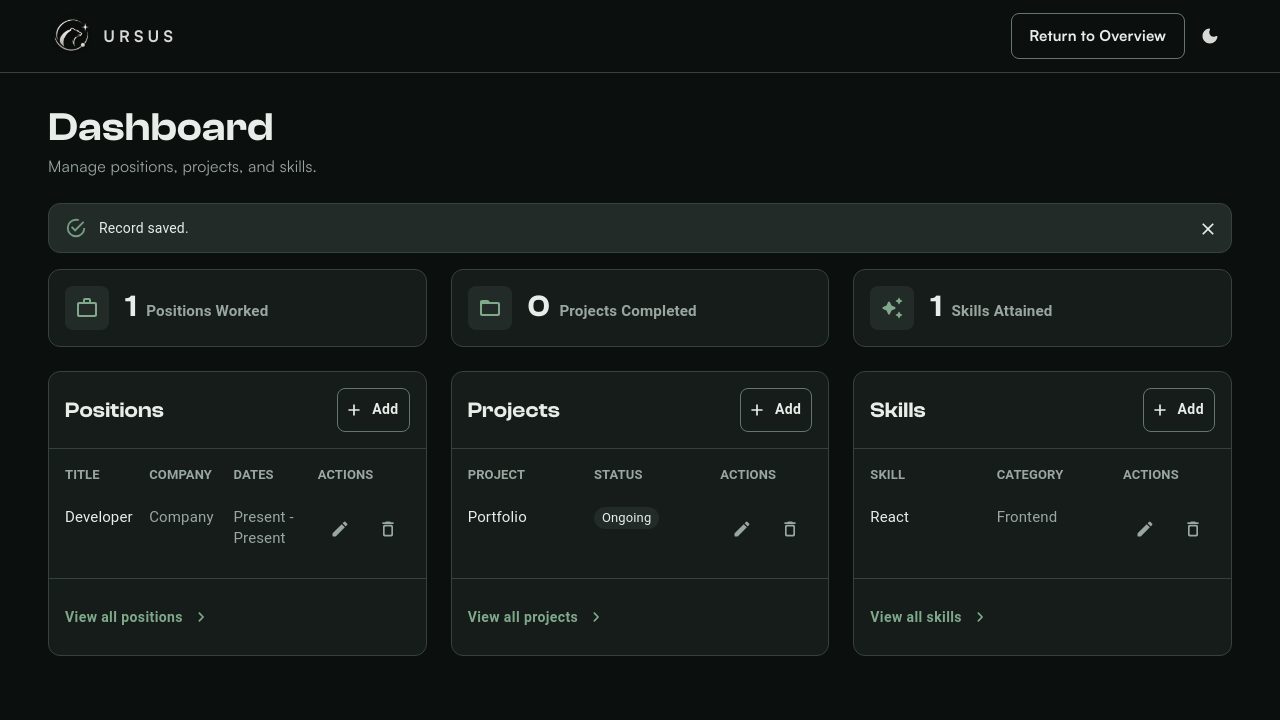
Test: Skills create, edit, delete and view-all controls remain functional
Earlier steps of the test are not shown.
Expected: the text "Record saved." is shown, [99,220,189,236]
Click the button named "Edit React". click: {"x": 1145, "y": 529}
box: [1123,507,1167,551]
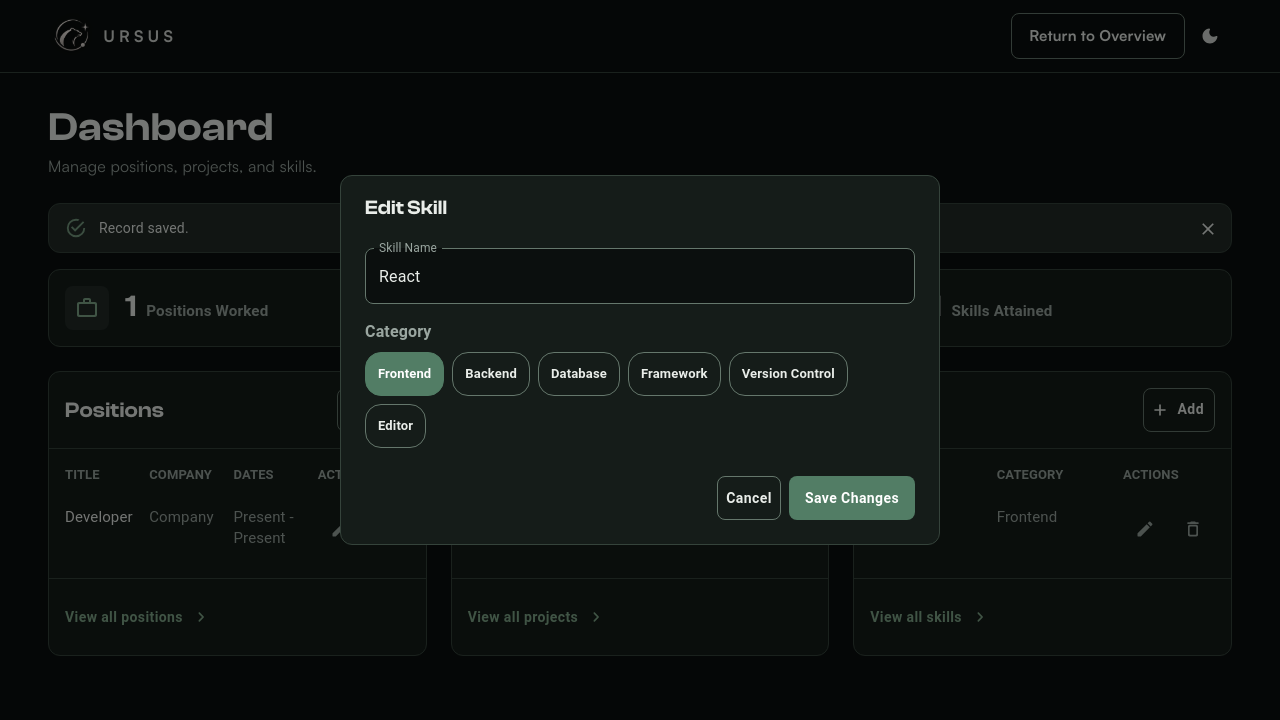
Replace the text in the field labelled "Skill Name" with "Updated name". click: {"x": 640, "y": 276}
box: [365,248,915,304]
Click the button "Save Changes". click: {"x": 852, "y": 498}
box: [789,476,915,520]
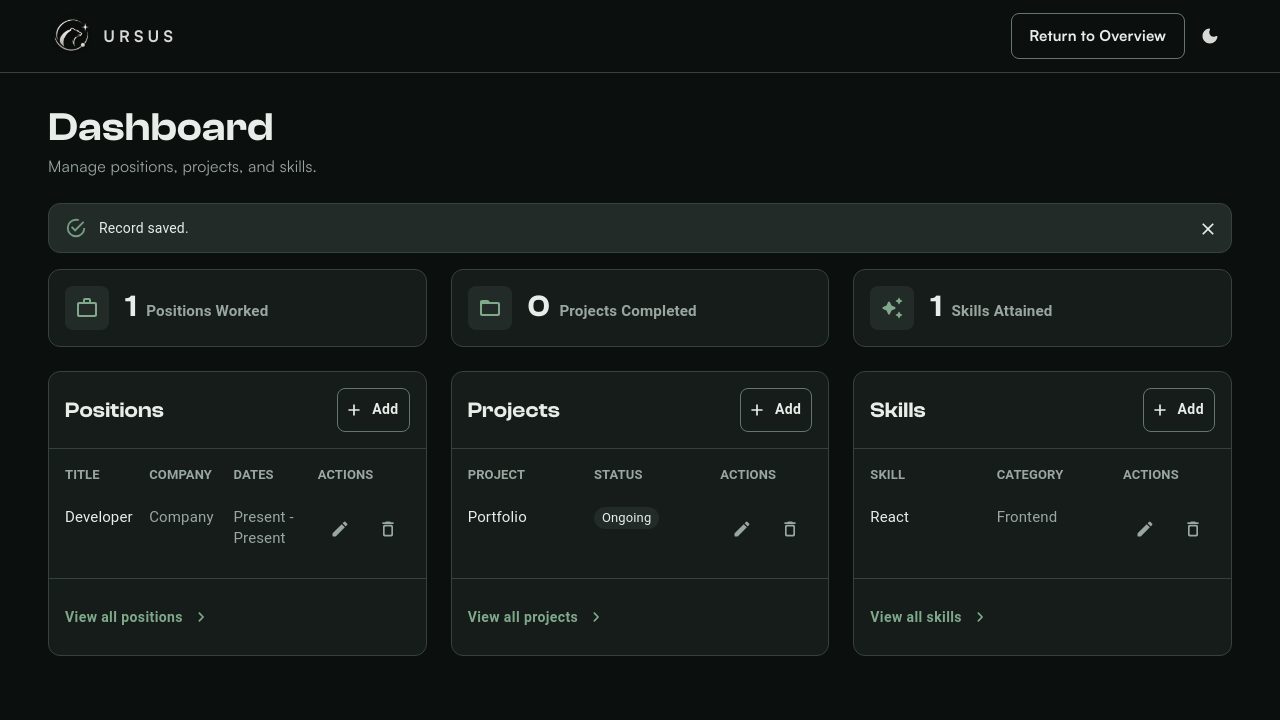
Result: the text "Record saved." is shown at [99,220,189,236]
Result: the dialog is gone
Click the button "View all skills". click: {"x": 928, "y": 618}
box: [870,596,986,640]
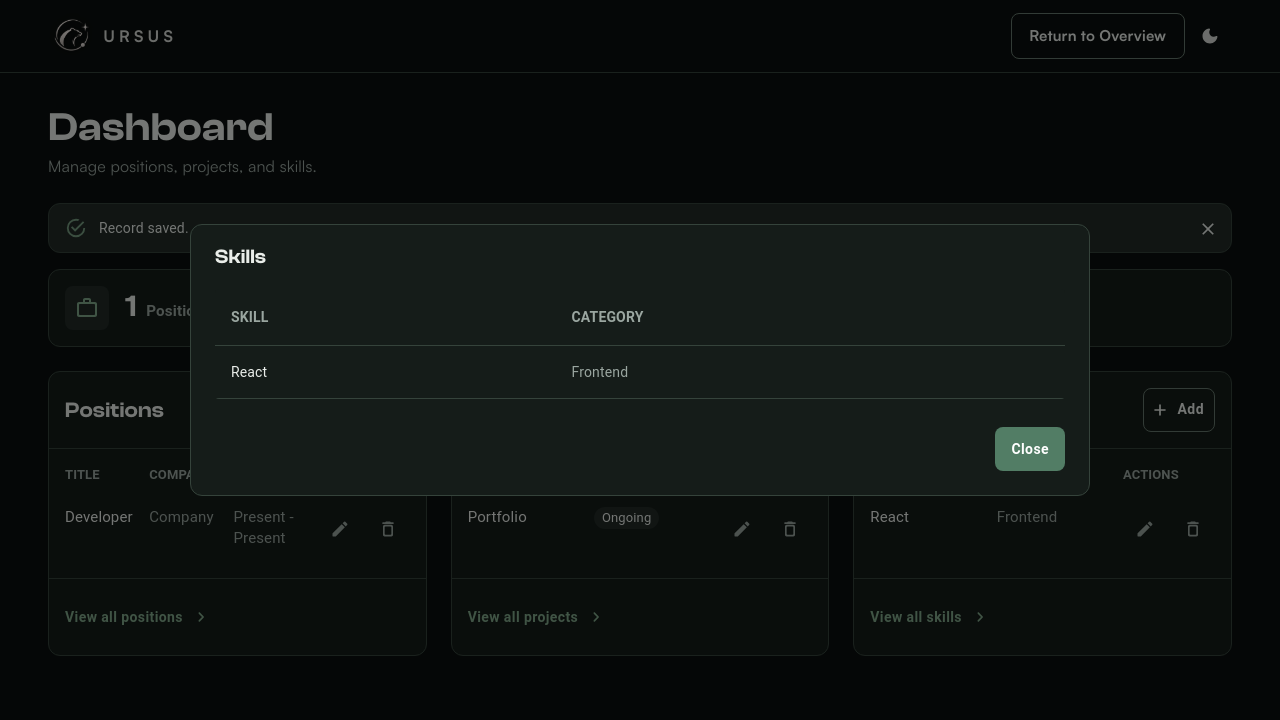
Result: the table is shown at [215,289,1065,399]
Click the button "Close". click: {"x": 1030, "y": 449}
box: [995,427,1065,471]
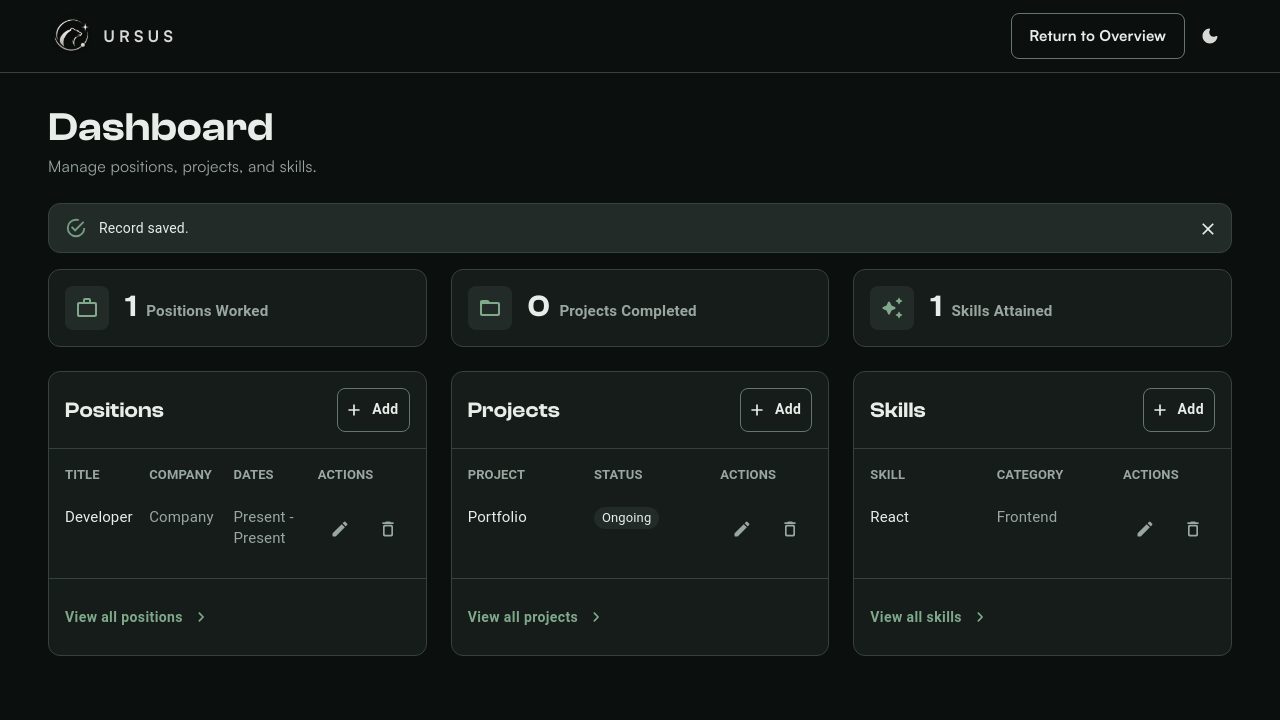
Result: the dialog is gone
Click the button named "Delete React". click: {"x": 1193, "y": 529}
box: [1171,507,1215,551]
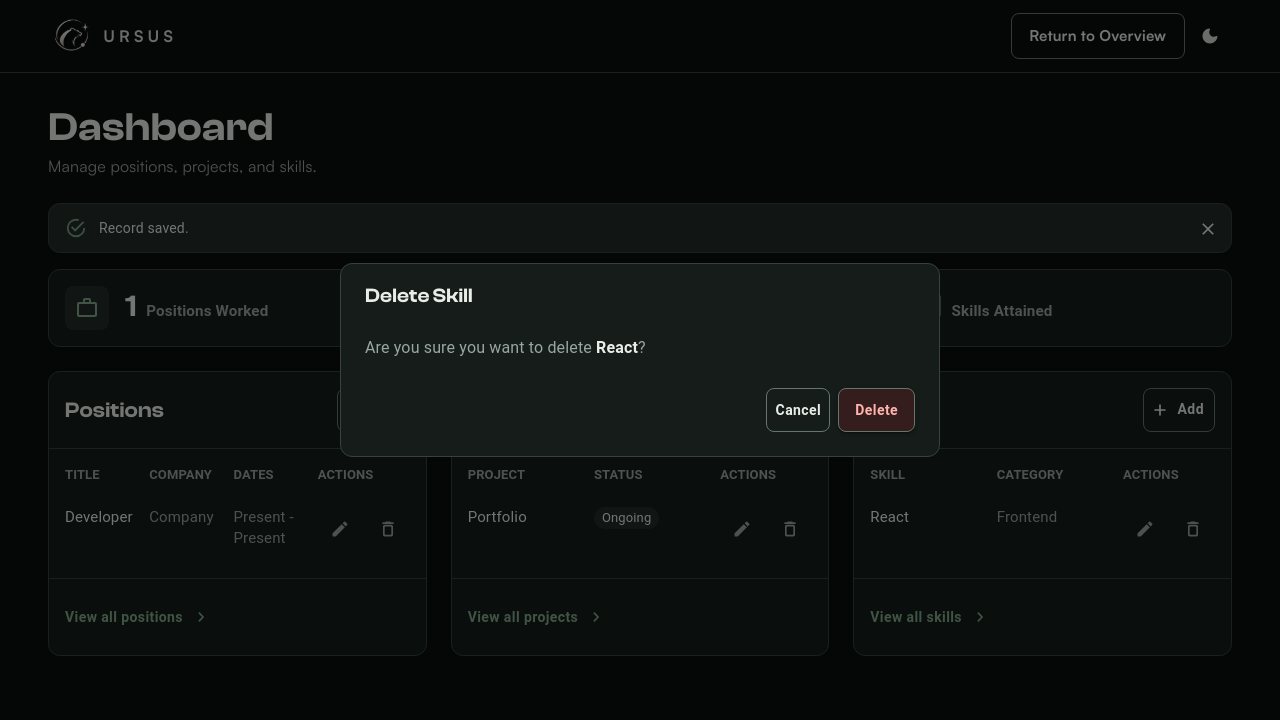
Click the button "Delete". click: {"x": 877, "y": 410}
box: [838,388,915,432]
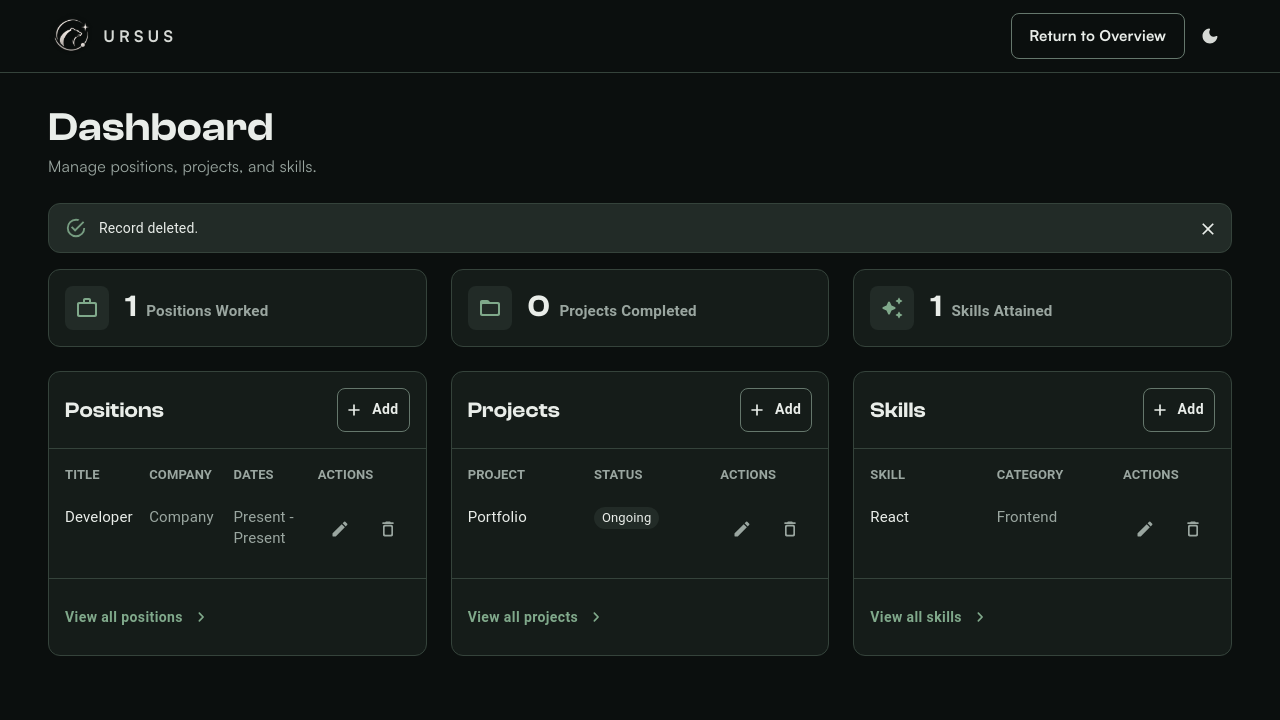
Result: the text "Record deleted." is shown at [99,220,198,236]
